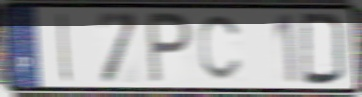1: (270, 10, 299, 87)
7: (96, 10, 138, 86)
C: (197, 13, 245, 84)
D: (298, 11, 349, 88)
I: (57, 10, 73, 84)
P: (146, 10, 195, 87)
